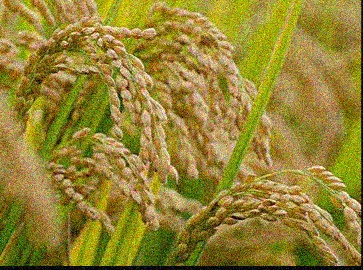rice: (9, 13, 178, 170), (173, 163, 360, 266), (16, 128, 164, 242)
